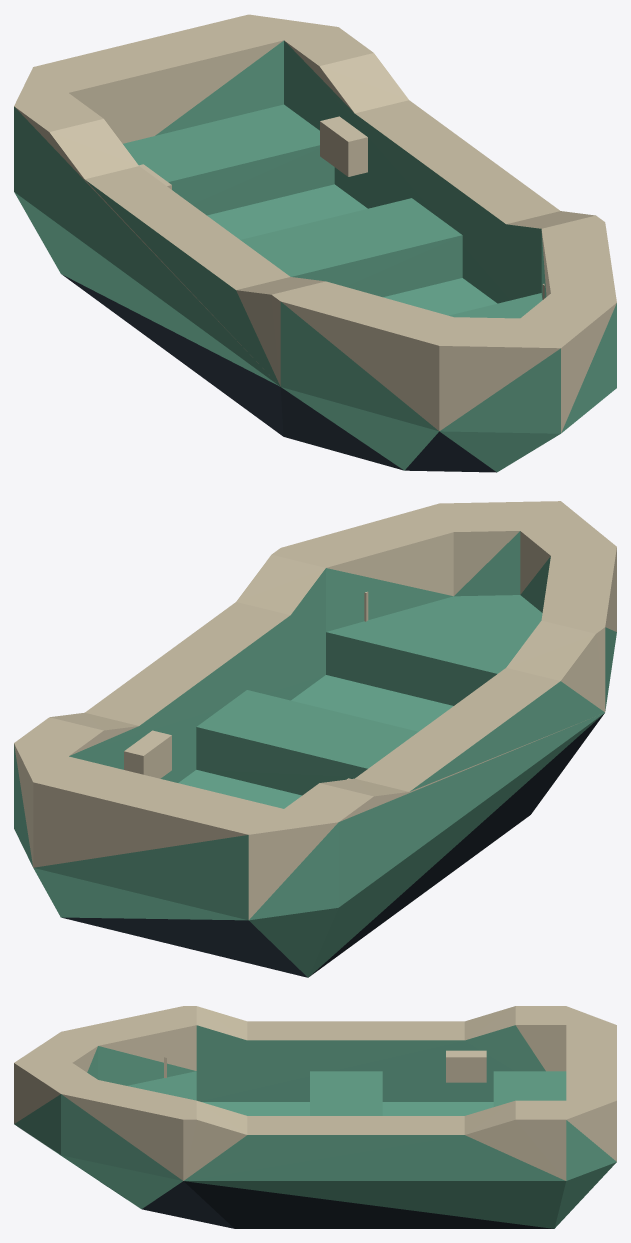
File: moored-skiff.glb
3 views of the same model, one above another, from view 1: azimuth 30°, elevation 25°; view 2: azimuth 150°, elevation 25°; view 3: azimuth 270°, elevation 25° (orthographic). The views are drawn at different scales.
Parts seen in each view (by area): view 1: moored-skiff; view 2: moored-skiff; view 3: moored-skiff.
Boxes of the visible parts, box(x1,y1,x2,y2) form: moored-skiff: box(14, 14, 616, 472); moored-skiff: box(14, 501, 616, 977); moored-skiff: box(14, 1006, 616, 1228).
Bounding box in the file's own units: 1.45 × 0.73 × 3.25.
